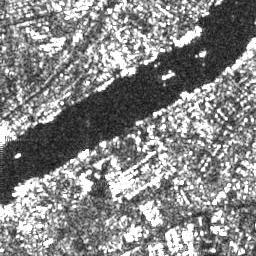ship: (162, 69, 175, 81), (196, 47, 208, 57), (13, 150, 23, 159)
